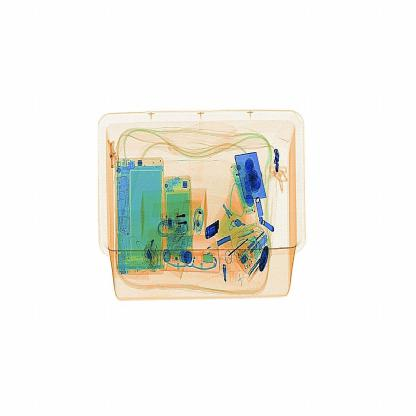knife: (198, 213, 226, 242)
